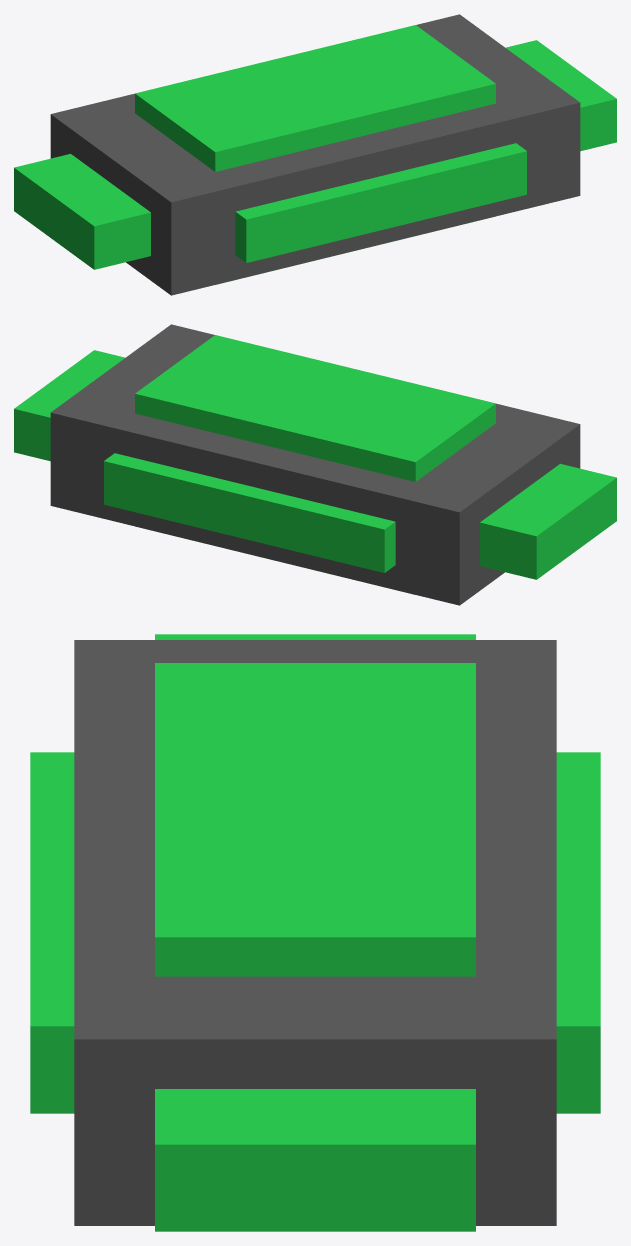
Rendered from tile_green.FBX.
The picture shows the model from 3 angles, top to bottom: view 1: azimuth 30°, elevation 25°; view 2: azimuth 150°, elevation 25°; view 3: azimuth 270°, elevation 25°; orthographic projection. The views are drawn at different scales.
Parts seen in each view (by area): view 1: Box001; view 2: Box001; view 3: Box001.
Part boxes in pixels (bbox=[...]): Box001: bbox=[14, 14, 616, 295]; Box001: bbox=[14, 324, 616, 605]; Box001: bbox=[30, 634, 600, 1231].
Size of the model in its own units: 46.57 by 11.31 by 21.99.
